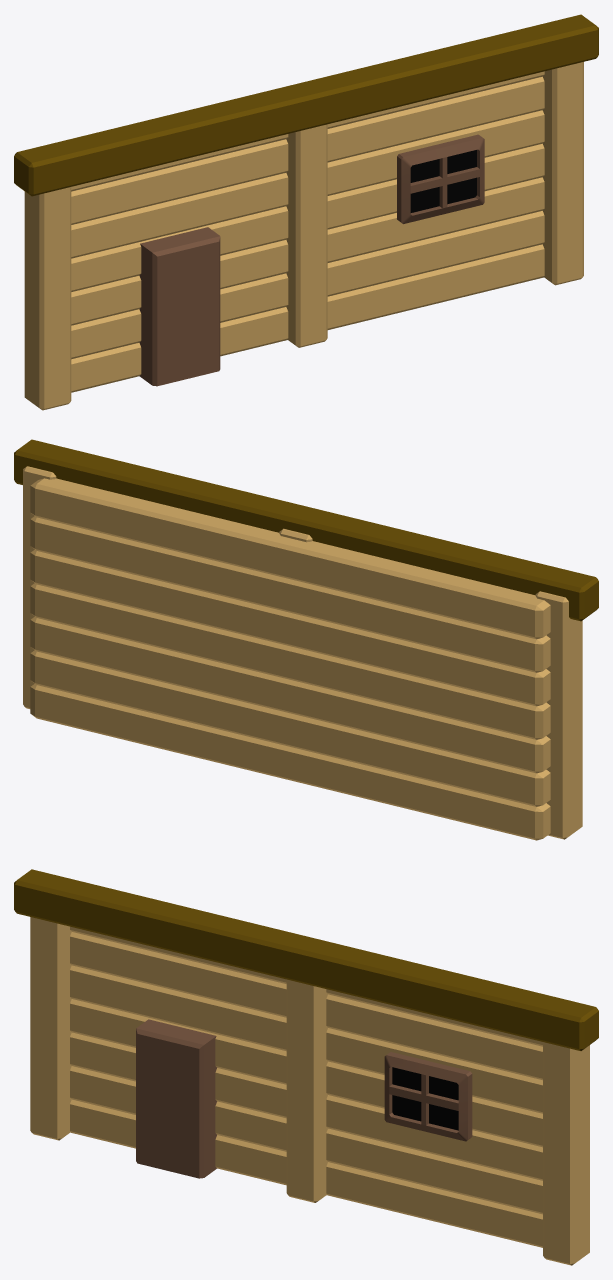
Rendered from Shack1.fbx.
3 renders of one model, top to bottom at view 1: azimuth 30°, elevation 25°; view 2: azimuth 150°, elevation 25°; view 3: azimuth 330°, elevation 25°, orthographic.
Parts seen in each view (by area): view 1: pCube13, pCube6, pCube5, pCube2, pCube1, pCube8, pCube3, pCube11, pCube4, pCube12, pCube10, pCube9 (+1 smaller); view 2: pCube7, pCube13, pCube5, pCube1, pCube3, pCube4, pCube2, pCube6, pCube11, pCube10; view 3: pCube13, pCube6, pCube5, pCube1, pCube2, pCube8, pCube3, pCube10, pCube4, pCube12, pCube11, pCube9 (+1 smaller).
Boxes of the visible parts, x1,y1,x2,y2 form: pCube13: [14, 14, 598, 196]; pCube6: [71, 76, 544, 224]; pCube5: [71, 110, 544, 258]; pCube2: [71, 211, 544, 359]; pCube1: [71, 244, 544, 392]; pCube8: [139, 227, 220, 386]; pCube3: [71, 177, 544, 325]; pCube11: [24, 187, 71, 410]; pCube4: [71, 143, 544, 291]; pCube12: [286, 124, 327, 347]; pCube10: [542, 62, 583, 285]; pCube9: [397, 134, 484, 224]; pCube7: [30, 478, 550, 639]; pCube13: [14, 439, 598, 621]; pCube5: [30, 549, 550, 706]; pCube1: [30, 684, 550, 840]; pCube3: [30, 617, 550, 773]; pCube4: [30, 583, 550, 739]; pCube2: [30, 650, 550, 806]; pCube6: [30, 516, 550, 672]; pCube11: [535, 591, 582, 839]; pCube10: [23, 466, 56, 708]; pCube13: [14, 869, 598, 1050]; pCube6: [70, 932, 542, 1080]; pCube5: [70, 965, 542, 1113]; pCube1: [70, 1099, 542, 1247]; pCube2: [70, 1066, 542, 1214]; pCube8: [136, 1019, 216, 1178]; pCube3: [70, 1032, 542, 1180]; pCube10: [543, 1042, 589, 1265]; pCube4: [70, 999, 542, 1147]; pCube12: [286, 979, 327, 1202]; pCube11: [30, 917, 71, 1140]; pCube9: [384, 1052, 472, 1141].
Size of the model in its own units: 17.8 by 7.54 by 1.74.
